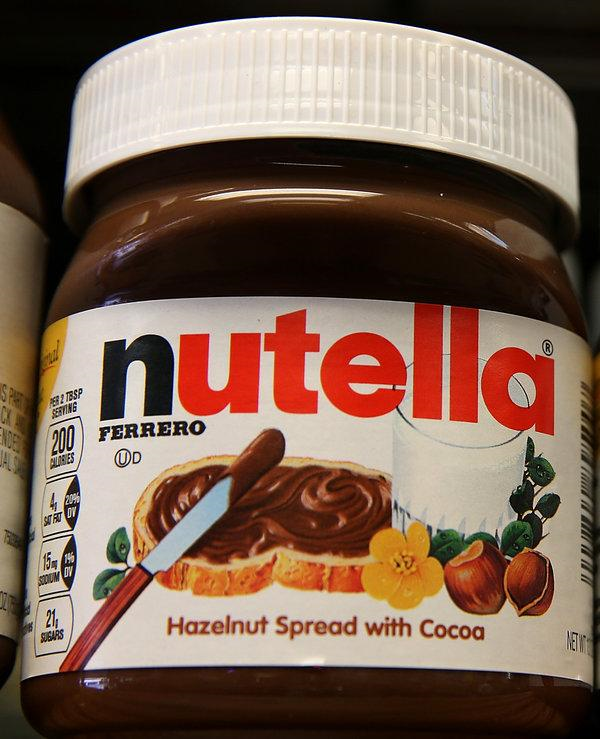nutella: (19, 15, 593, 738)
